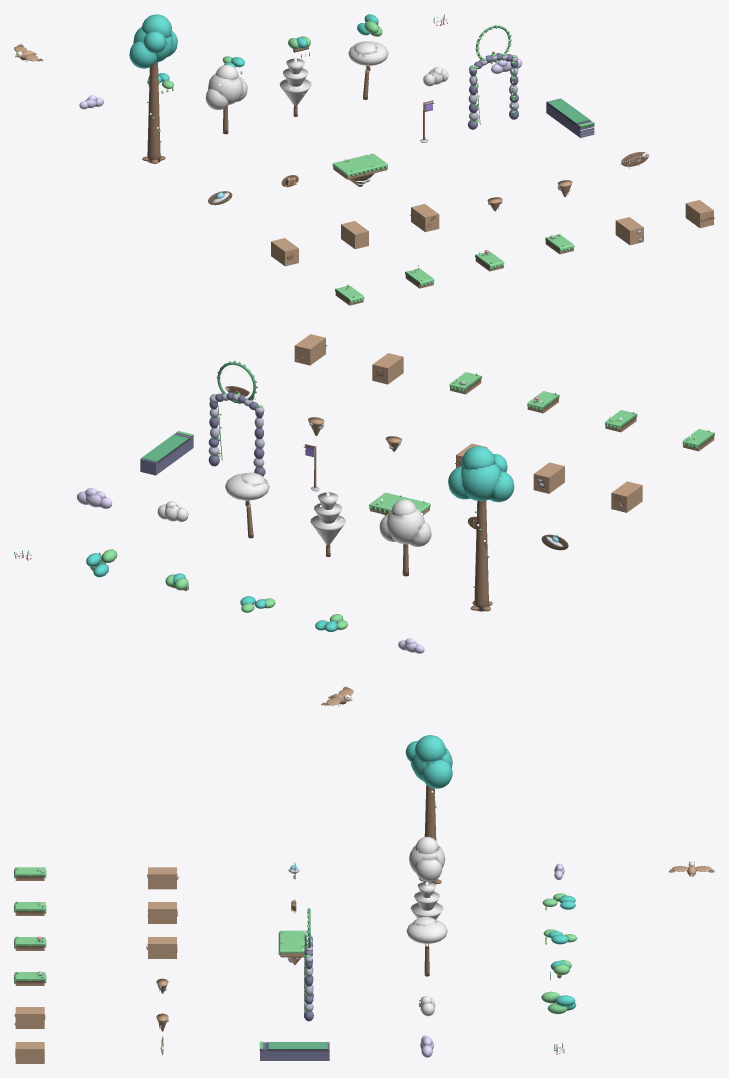
Rendered from forest.glb.
3 views of the same model, one above another, from view 1: azimuth 30°, elevation 25°; view 2: azimuth 150°, elevation 25°; view 3: azimuth 270°, elevation 25° (orthographic). The views are drawn at different scales.
Parts seen in each view (by area): view 1: ForestEnd, ForestFinish, Tree1, IslandLift, ForestBase, Tree2, Tree3, IslandBodyE, IslandBodyB, IslandBodyA, IslandBodyC, IslandBodyD; view 2: ForestEnd, ForestFinish, Tree1, ForestBase, Tree2, Tree3, IslandBodyB, IslandBodyA, IslandBodyC, IslandBodyD, IslandLift; view 3: ForestEnd, ForestBase, Tree1, Tree3, ForestFinish, Tree2, IslandLift, IslandBodyC, IslandBodyA, IslandBodyB, IslandBodyE, IslandBodyD (+1 smaller).
Boxes of the visible parts, bbox=[...] form: ForestEnd: bbox=[129, 14, 177, 163]; ForestFinish: bbox=[467, 25, 518, 129]; Tree1: bbox=[205, 64, 247, 134]; IslandLift: bbox=[332, 153, 387, 189]; ForestBase: bbox=[546, 98, 594, 137]; Tree2: bbox=[279, 58, 311, 116]; Tree3: bbox=[348, 41, 388, 99]; IslandBodyE: bbox=[410, 204, 439, 232]; IslandBodyB: bbox=[685, 200, 714, 228]; IslandBodyA: bbox=[615, 217, 643, 245]; IslandBodyC: bbox=[271, 238, 298, 266]; IslandBodyD: bbox=[341, 221, 368, 249]; ForestEnd: bbox=[448, 446, 514, 611]; ForestFinish: bbox=[208, 360, 265, 476]; Tree1: bbox=[379, 499, 431, 576]; ForestBase: bbox=[140, 430, 193, 475]; Tree2: bbox=[310, 492, 345, 556]; Tree3: bbox=[225, 472, 269, 538]; IslandBodyB: bbox=[294, 334, 326, 365]; IslandBodyA: bbox=[372, 353, 403, 384]; IslandBodyC: bbox=[611, 481, 642, 512]; IslandBodyD: bbox=[533, 462, 564, 493]; IslandLift: bbox=[369, 492, 430, 515]; ForestEnd: bbox=[405, 735, 452, 883]; ForestBase: bbox=[259, 1041, 329, 1060]; Tree1: bbox=[409, 837, 445, 881]; Tree3: bbox=[406, 916, 447, 976]; ForestFinish: bbox=[303, 907, 313, 1021]; Tree2: bbox=[410, 882, 443, 919]; IslandLift: bbox=[278, 930, 310, 967]; IslandBodyC: bbox=[147, 867, 178, 889]; IslandBodyA: bbox=[14, 1007, 45, 1028]; IslandBodyB: bbox=[15, 1042, 44, 1063]; IslandBodyE: bbox=[146, 937, 177, 958]; IslandBodyD: bbox=[147, 902, 178, 923].
Size of the model in its own units: 27.94 by 10.85 by 42.38.
